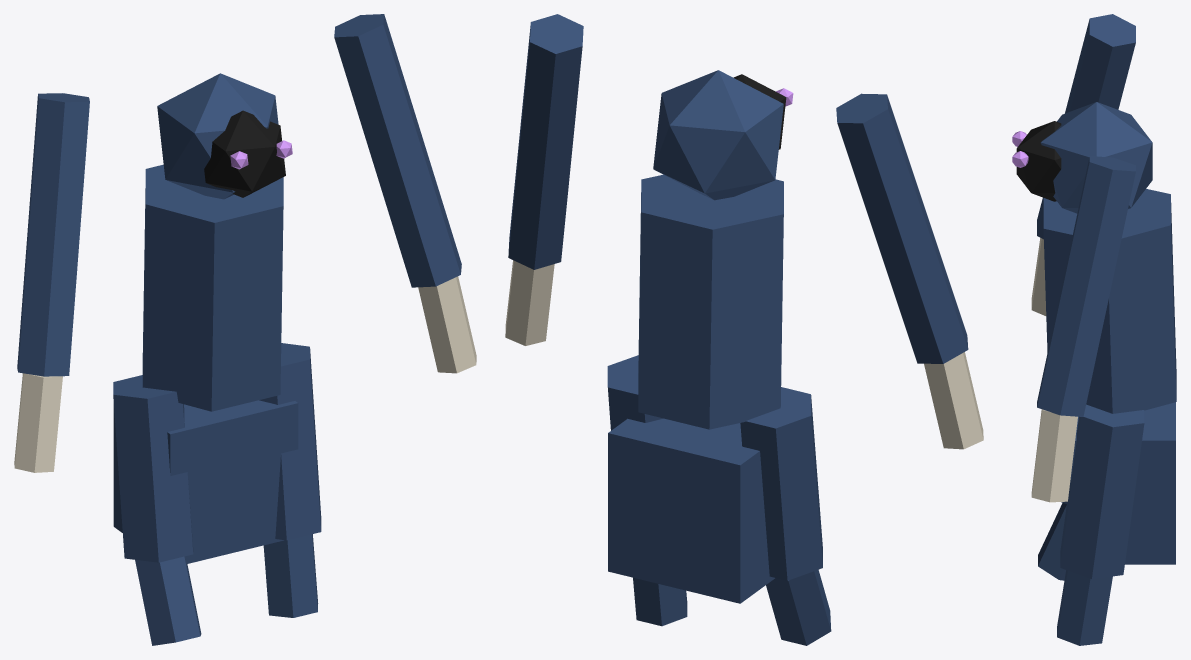
File: npcpose_wraith_walk_08.glb
3 renders of one model, left to right at view 1: azimuth 30°, elevation 25°; view 2: azimuth 150°, elevation 25°; view 3: azimuth 270°, elevation 25°, orthographic. The views are drawn at different scales.
Visible parts, largest first — view 1: npcpose; view 2: npcpose; view 3: npcpose.
Part boxes in pixels (box(x1,y1,x2,y2)): npcpose: box(14, 14, 476, 645); npcpose: box(505, 14, 983, 645); npcpose: box(1012, 14, 1176, 645).
Size of the model in its own units: 0.9388 by 1.09 by 0.3123.
